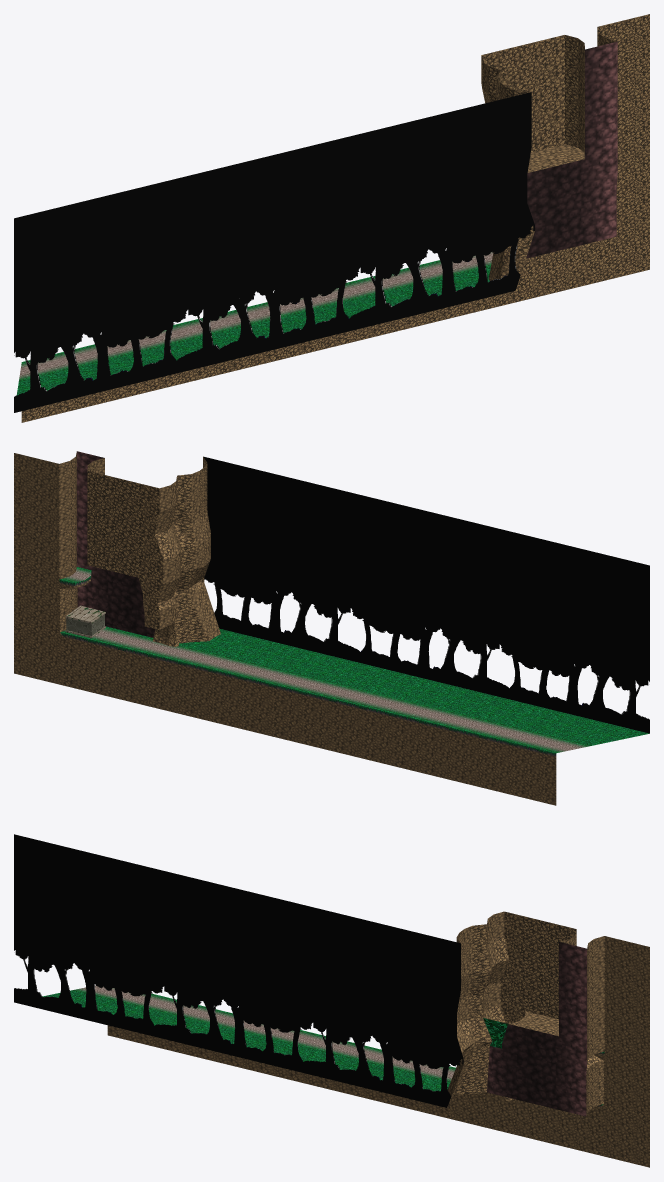
File: Area2_Room16.fbx
The picture shows the model from 3 angles, top to bottom: view 1: azimuth 30°, elevation 25°; view 2: azimuth 150°, elevation 25°; view 3: azimuth 330°, elevation 25°; orthographic projection. The views are drawn at different scales.
Visible parts, largest first — view 1: pCube104; view 2: pCube104; view 3: pCube104.
Boxes of the visible parts, bbox=[...] form: pCube104: bbox=[14, 14, 649, 422]; pCube104: bbox=[14, 451, 649, 805]; pCube104: bbox=[14, 834, 649, 1167].
Bounding box in the file's own units: 118 × 42 × 15.
